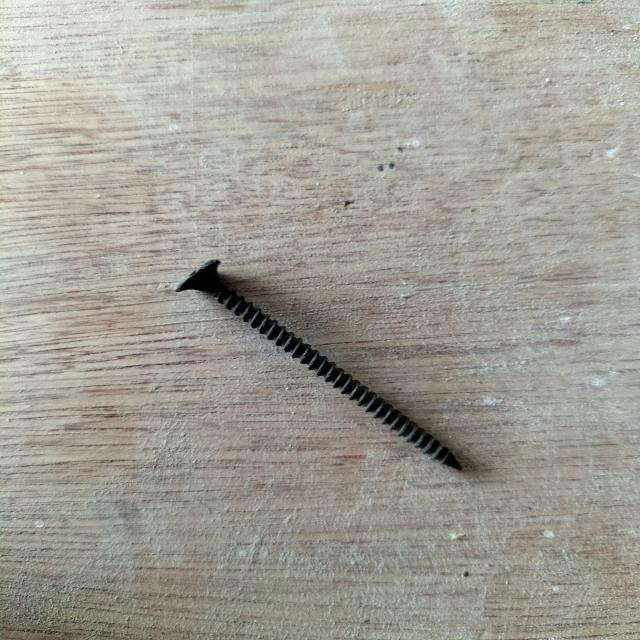screw: (174, 259, 463, 471)
